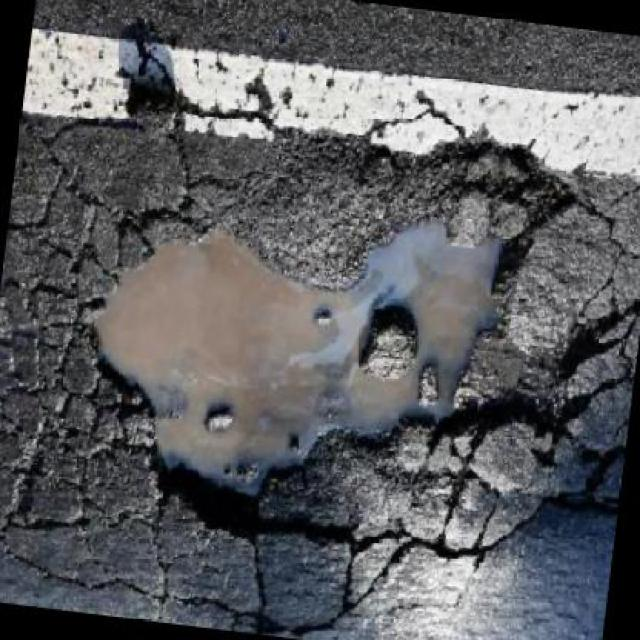pothole: (56, 98, 586, 587)
